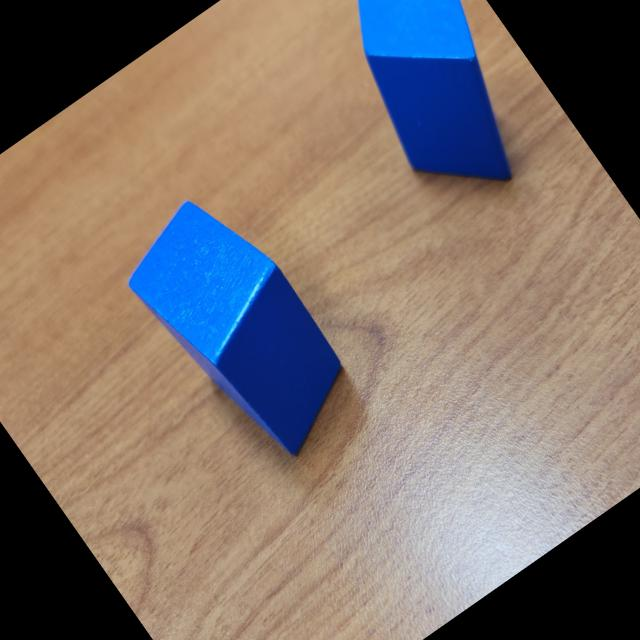blue: (106, 177, 374, 478), (310, 0, 563, 223)
